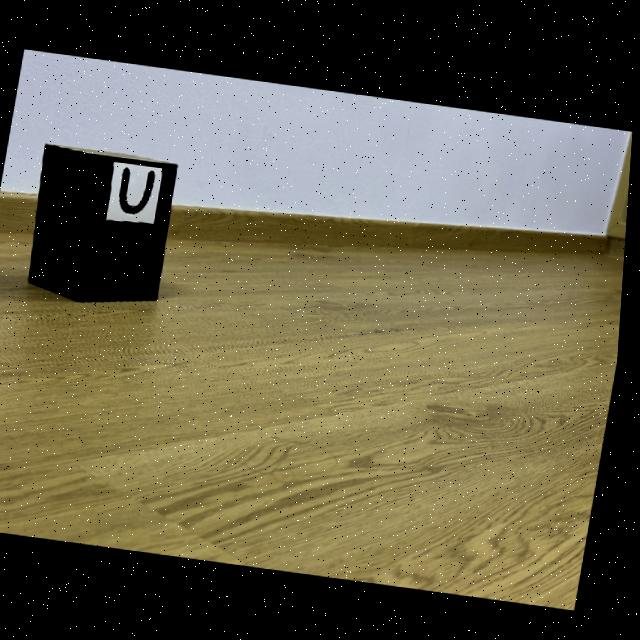U: (121, 167, 157, 214)
